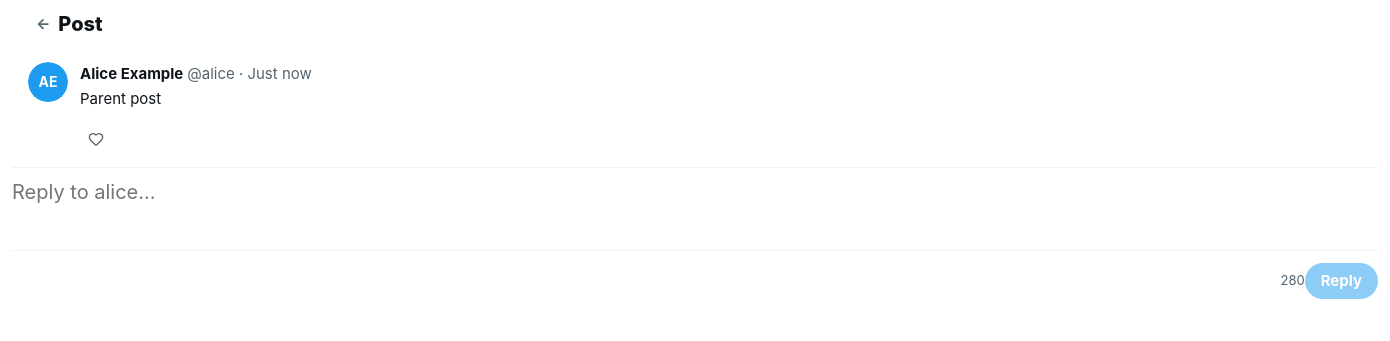
Test: Conversation UI states › shows reply-form-status on reply submission failure
In the text box with test id "reply-composer-input": (695, 204) [12, 168, 1378, 240], type "x"
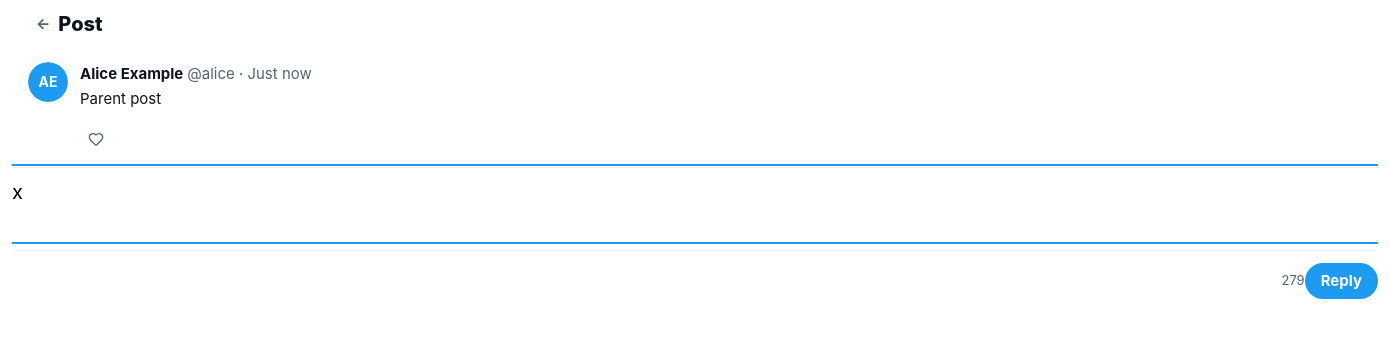
Click the button with test id "reply-submit-button": (1341, 280) [1305, 262, 1378, 298]
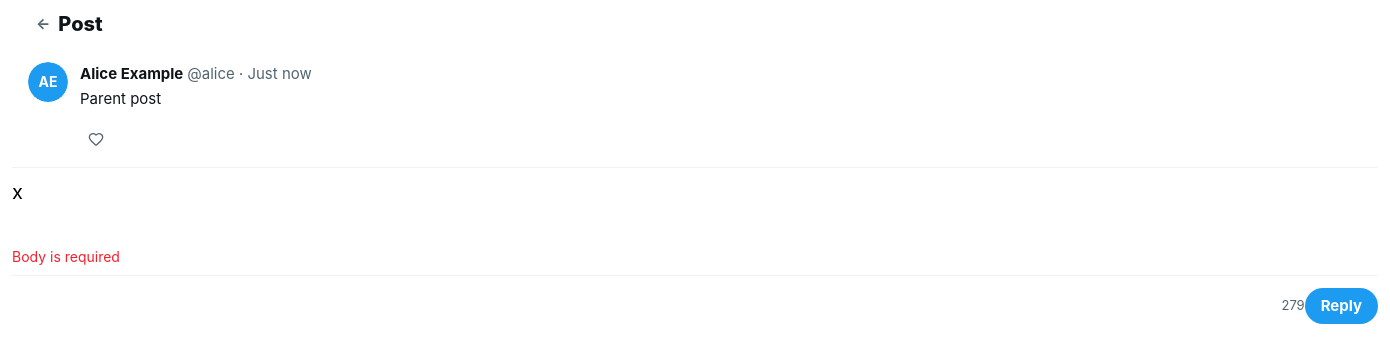
Check: the message "Body is required" is shown, box [12, 248, 120, 264]
